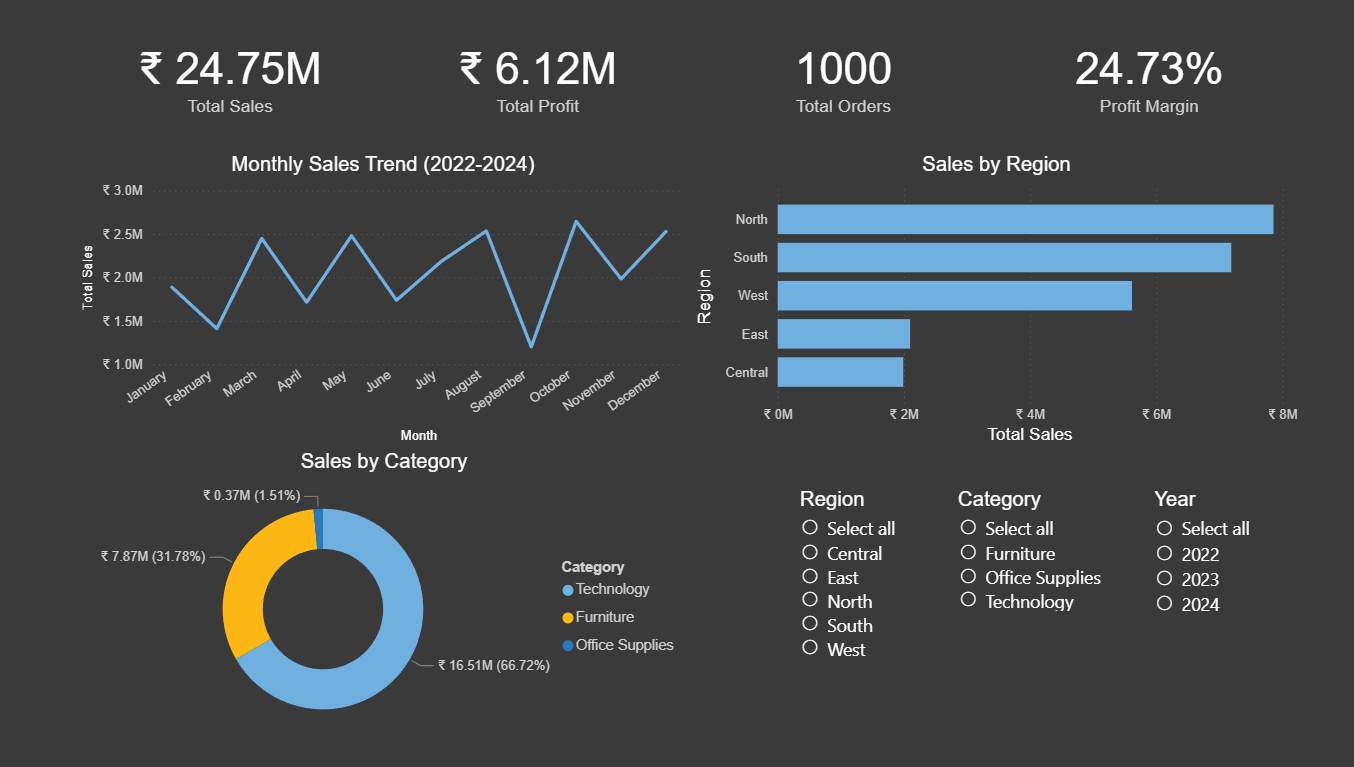

The page's visual inventory and layout, read from the dashboard file:
{"tool":"powerbi","page":{"name":"Sales Overview","canvas":[1280,720],"ordinal":0},"visuals":[{"type":"card","fields":{"Values":["Measure.Total Sales"]},"box":[80,16,280,140],"z":0},{"type":"card","fields":{"Values":["Measure.Total Profit"]},"box":[360,16,280,140],"z":1000},{"type":"card","fields":{"Values":["Measure.Total Orders"]},"box":[640,16,280,140],"z":2000},{"type":"card","fields":{"Values":["Measure.Profit Margin"]},"box":[920,16,280,140],"z":3000},{"type":"lineChart","title":"Monthly Sales Trend (2022-2024)","fields":{"Category":["Orders.Month"],"Y":["Measure.Total Sales"]},"box":[80,156,560,270],"z":4000},{"type":"clusteredBarChart","title":"Sales by Region","fields":{"Category":["Orders.Region"],"Y":["Measure.Total Sales"]},"box":[640.9,155.7,560.4,271],"z":5000},{"type":"donutChart","title":"Sales by Category","fields":{"Category":["Orders.Category"],"Y":["Measure.Total Sales"]},"box":[80.6,426.7,558.5,271],"z":6000},{"type":"listSlicer","fields":{"Values":["Orders.Region"]},"box":[736,462,140,208],"z":7000},{"type":"listSlicer","fields":{"Values":["Orders.Category"]},"box":[880,462,160,208],"z":8000},{"type":"listSlicer","fields":{"Values":["Orders.Year"]},"box":[1060,462,140,222],"z":9000}]}

Visuals, with their boxes in screenshot pixels (x1, y1, x2, y2), scaled from the page's 1280x720 canvas onto the 1354x767 screenshot:
card - Measure.Total Sales: {"x1": 85, "y1": 17, "x2": 381, "y2": 166}
card - Measure.Total Profit: {"x1": 381, "y1": 17, "x2": 677, "y2": 166}
card - Measure.Total Orders: {"x1": 677, "y1": 17, "x2": 973, "y2": 166}
card - Measure.Profit Margin: {"x1": 973, "y1": 17, "x2": 1269, "y2": 166}
"Monthly Sales Trend (2022-2024)" lineChart: {"x1": 85, "y1": 166, "x2": 677, "y2": 454}
"Sales by Region" clusteredBarChart: {"x1": 678, "y1": 166, "x2": 1271, "y2": 455}
"Sales by Category" donutChart: {"x1": 85, "y1": 455, "x2": 676, "y2": 743}
listSlicer - Orders.Region: {"x1": 779, "y1": 492, "x2": 927, "y2": 714}
listSlicer - Orders.Category: {"x1": 931, "y1": 492, "x2": 1100, "y2": 714}
listSlicer - Orders.Year: {"x1": 1121, "y1": 492, "x2": 1269, "y2": 729}
